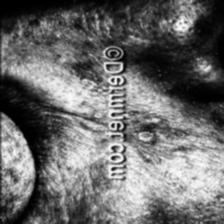Non-Cancerous Skin Condition: (0, 0, 198, 48), (128, 96, 192, 176)
